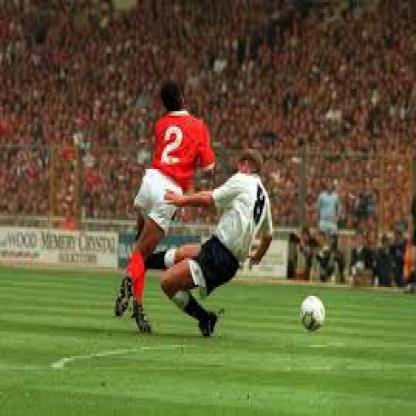Fall_Down: (138, 154, 277, 338)
